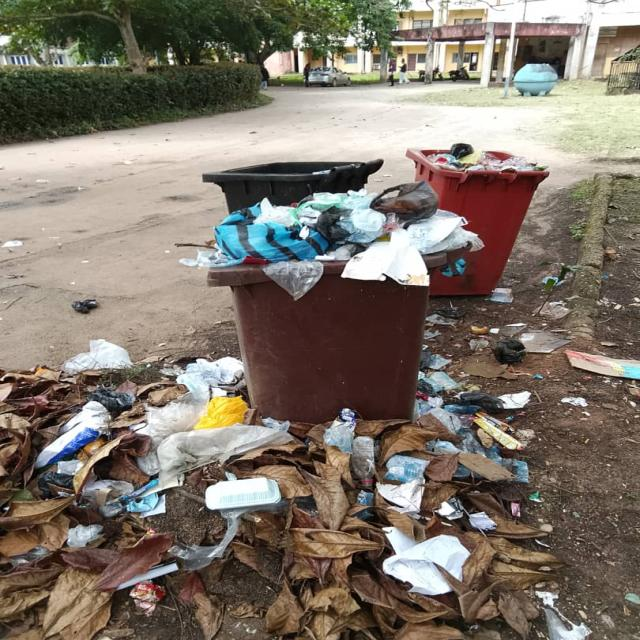full: (407, 148, 551, 175)
half-full: (201, 158, 387, 181)
overflowing: (208, 200, 469, 272)
